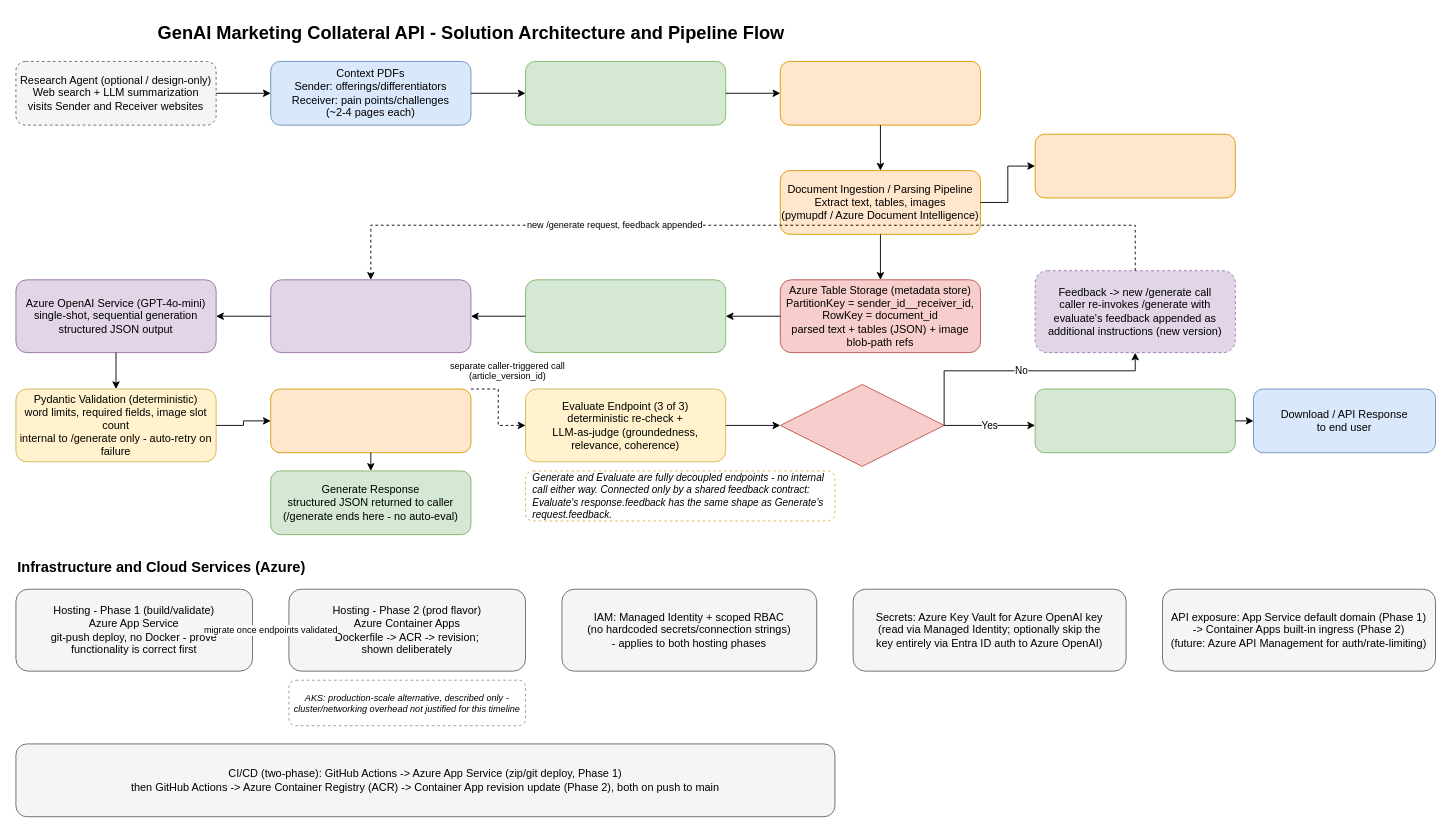
Some shapes in this 1451 by 833 pixel diagram are drawn without their labels. The centre of each missing label's shape, as x and y in pixels:
Azure Blob Storage Extracted images (separate blobs): (x=1134, y=165)
Azure Blob Storage Raw PDFs, keyed by document_id: (x=880, y=93)
Build Prompt system prompt + parsed context + Pydantic output schema: (x=370, y=316)
Evaluate Response: Passed Serve structured JSON (+ optional rendered artifact): (x=1134, y=420)
Generate Endpoint (2 of 3) FastAPI backend fetch by sender_id + receiver_id: (x=625, y=316)
Score >= threshold?: (x=861, y=425)
Store Generated Article (vN) Blob Storage + Table Storage reference: (x=370, y=420)
Upload Endpoint (1 of 3) FastAPI backend Pydantic request validation: (x=625, y=93)
